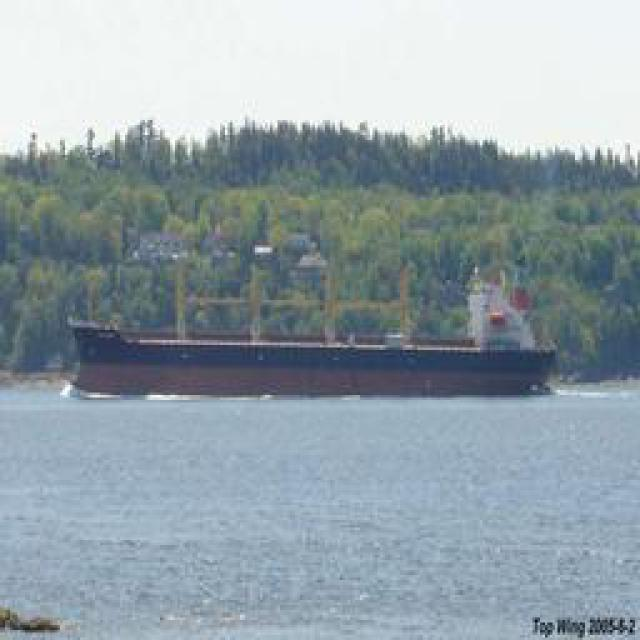Ship: (72, 315, 550, 400)
